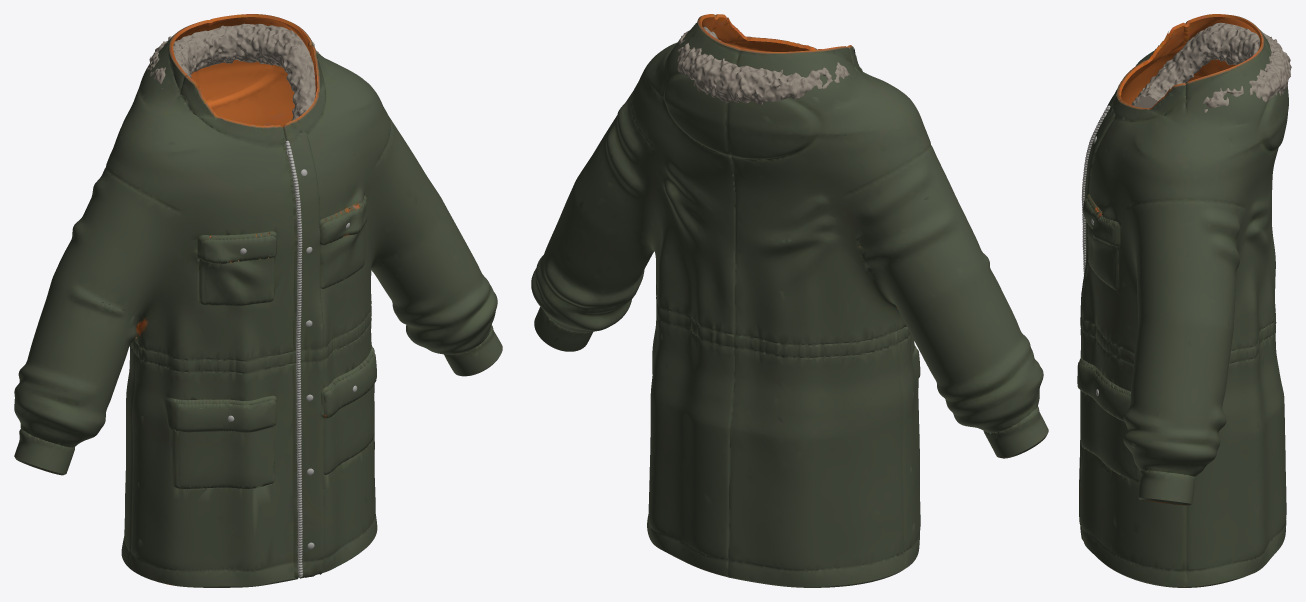
The model's file is 04_parka_pbr.glb.
3 renders of one model, left to right at view 1: azimuth 30°, elevation 25°; view 2: azimuth 150°, elevation 25°; view 3: azimuth 270°, elevation 25°, orthographic. The views are drawn at different scales.
Parts seen in each view (by area): view 1: Camiseta PBR, Cordones y adornos, Cremallera; view 2: Camiseta PBR, Cordones y adornos; view 3: Camiseta PBR, Cordones y adornos, Cremallera.
Boxes of the visible parts, x1,y1,x2,y2 form: Camiseta PBR: (14, 14, 502, 587); Cordones y adornos: (147, 23, 318, 120); Cremallera: (285, 140, 303, 577); Camiseta PBR: (531, 14, 1048, 587); Cordones y adornos: (677, 26, 849, 104); Camiseta PBR: (1077, 14, 1288, 587); Cordones y adornos: (1131, 22, 1291, 112); Cremallera: (1081, 105, 1110, 276).
Bounding box in the file's own units: 1.01 × 0.9979 × 0.3936.
4 materials, 1 textured.
